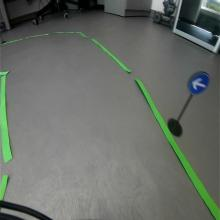left: (187, 72, 211, 97)
